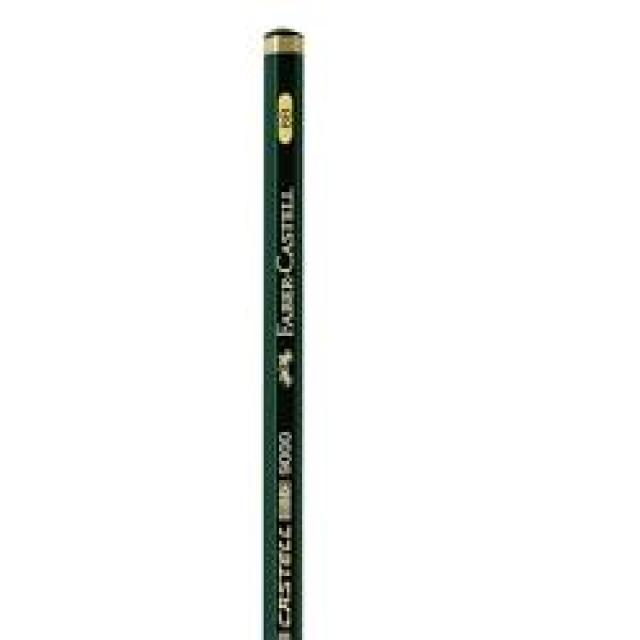alat_tulis: (159, 14, 434, 576)
